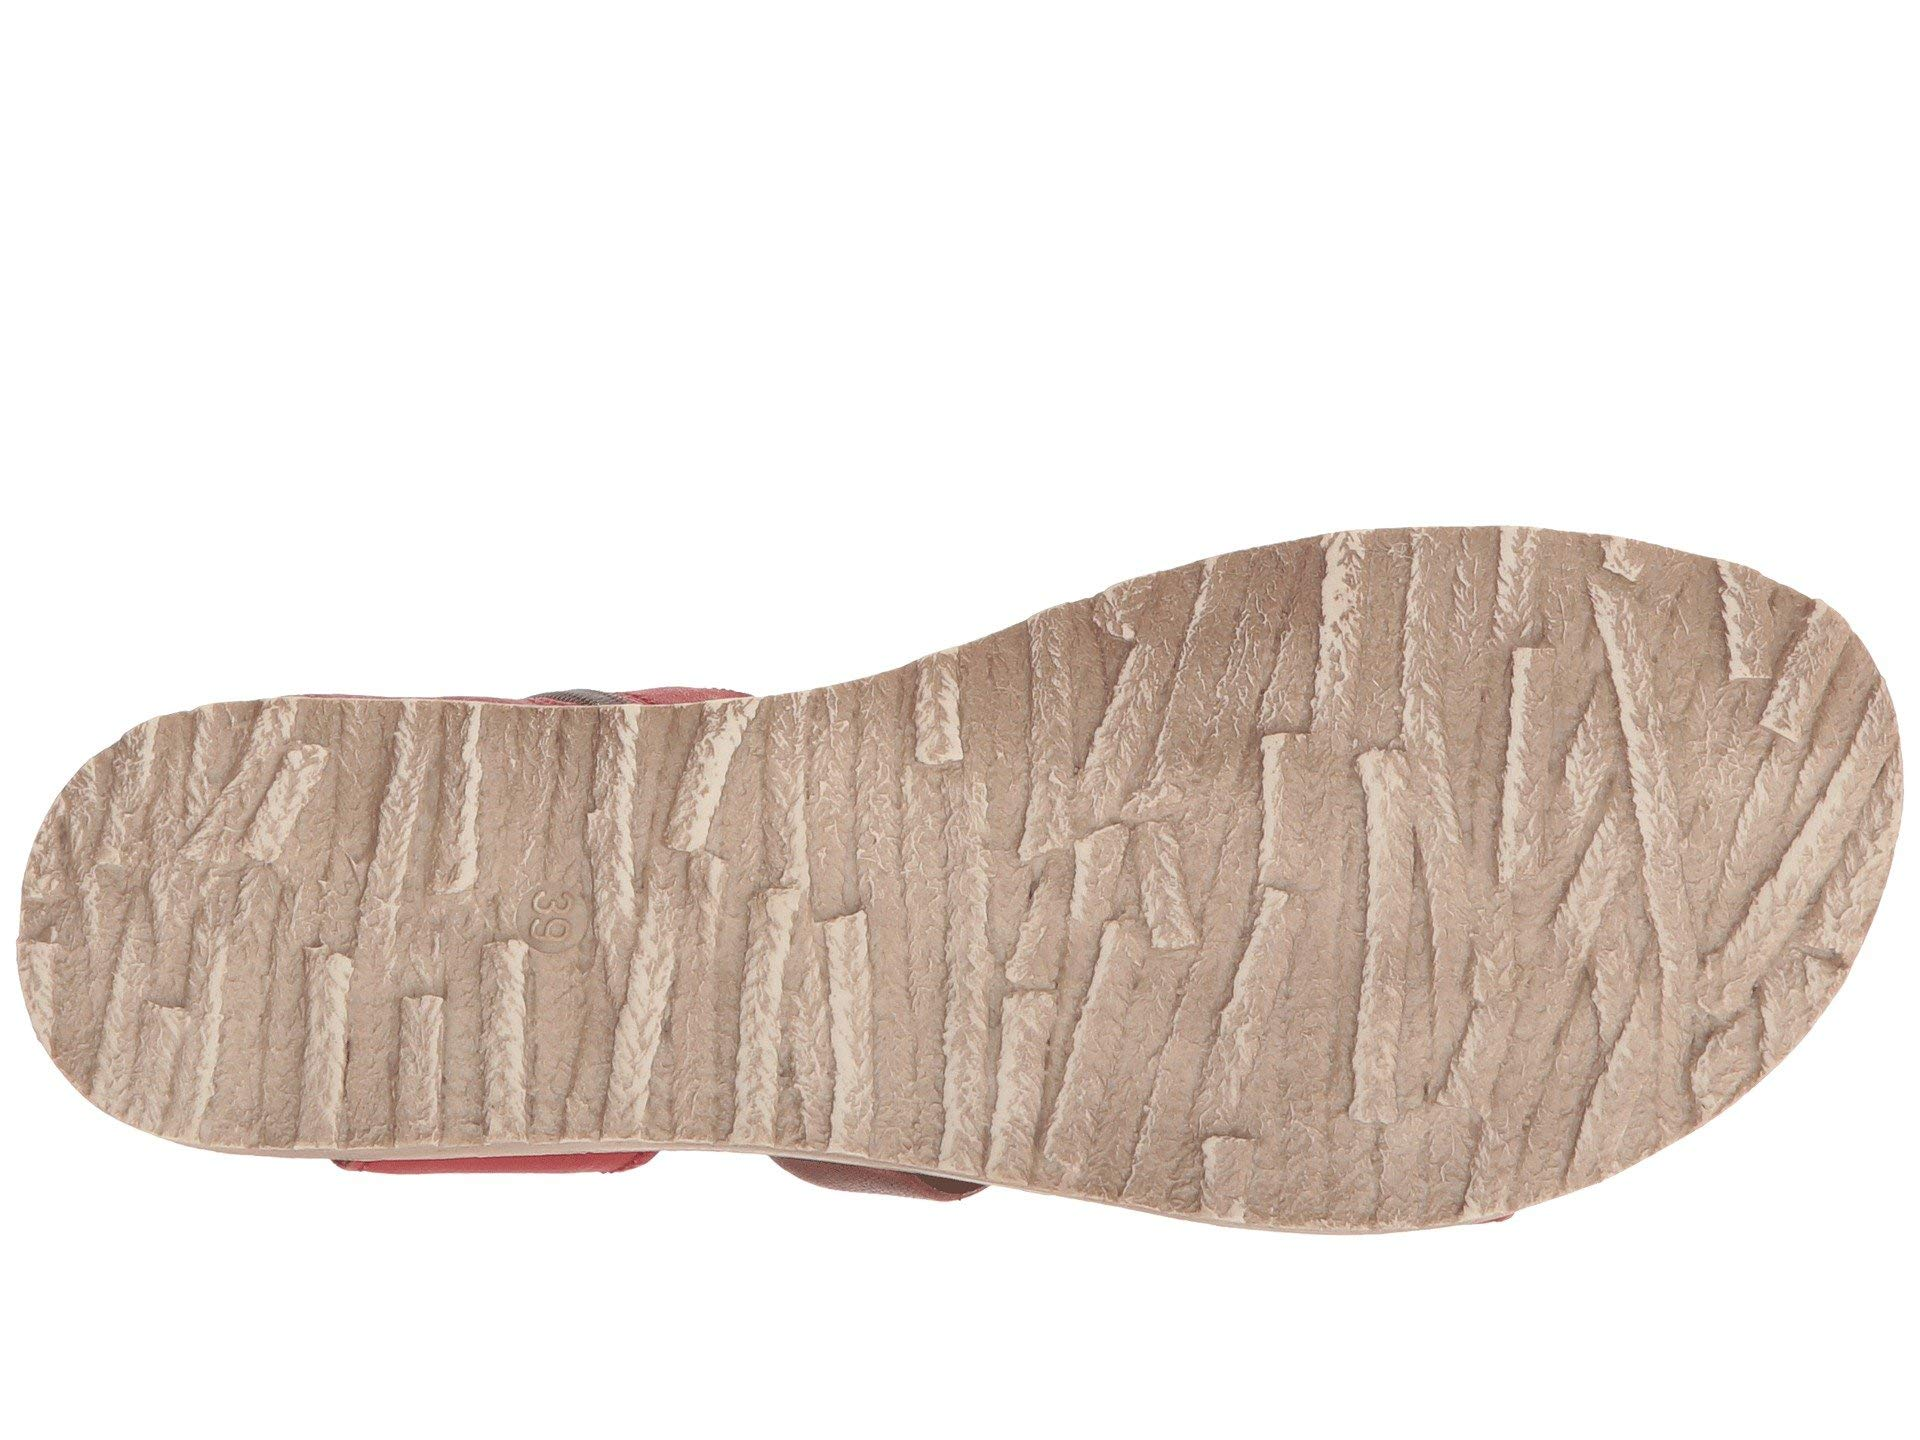circle: (509, 877, 612, 956)
line: (1001, 650, 1737, 1092)
quad: (1001, 650, 1737, 1092)
text: (509, 877, 612, 956)
